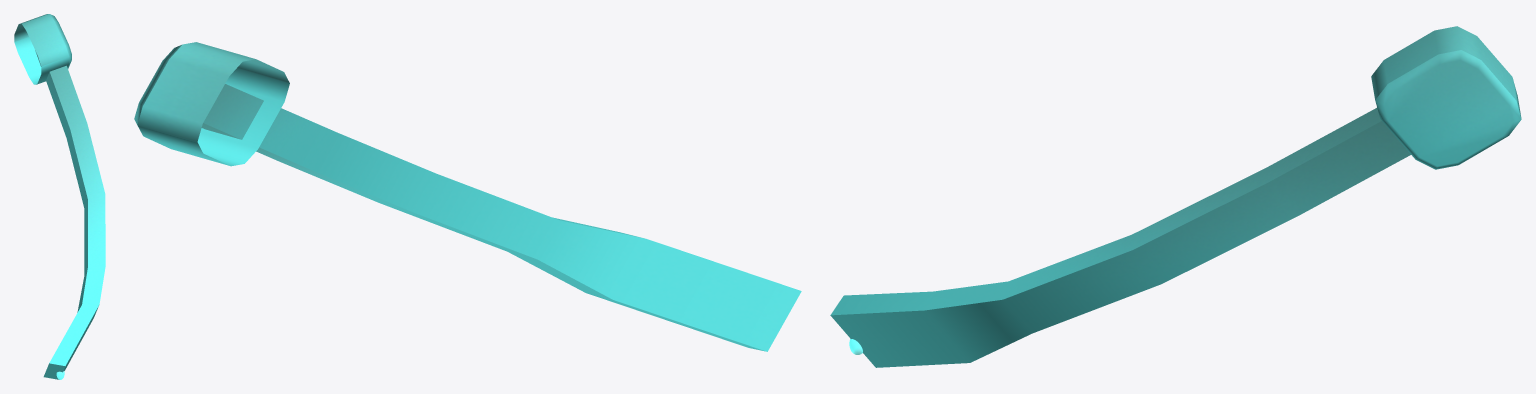
Rendered from Headset.fbx.
The picture shows the model from 3 angles, left to right: view 1: azimuth 30°, elevation 25°; view 2: azimuth 150°, elevation 25°; view 3: azimuth 270°, elevation 25°; orthographic projection. The views are drawn at different scales.
Visible parts, largest first — view 1: headset_mic; view 2: headset_mic; view 3: headset_mic.
Boxes of the visible parts, bbox=[...] form: headset_mic: bbox=[14, 14, 105, 379]; headset_mic: bbox=[134, 42, 801, 351]; headset_mic: bbox=[830, 26, 1521, 367].
Bounding box in the file's own units: 6.6 × 8.54 × 11.86.
